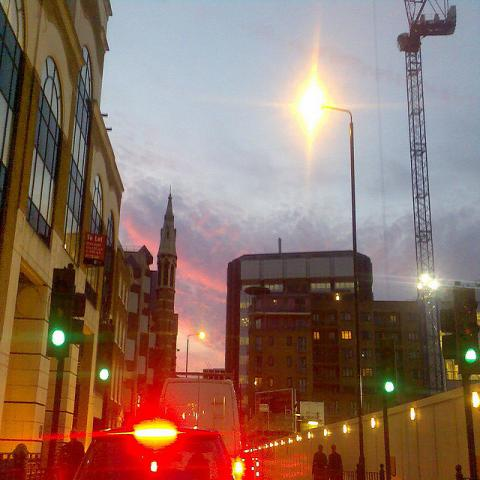car: (69, 428, 235, 479)
truck: (159, 377, 241, 458)
